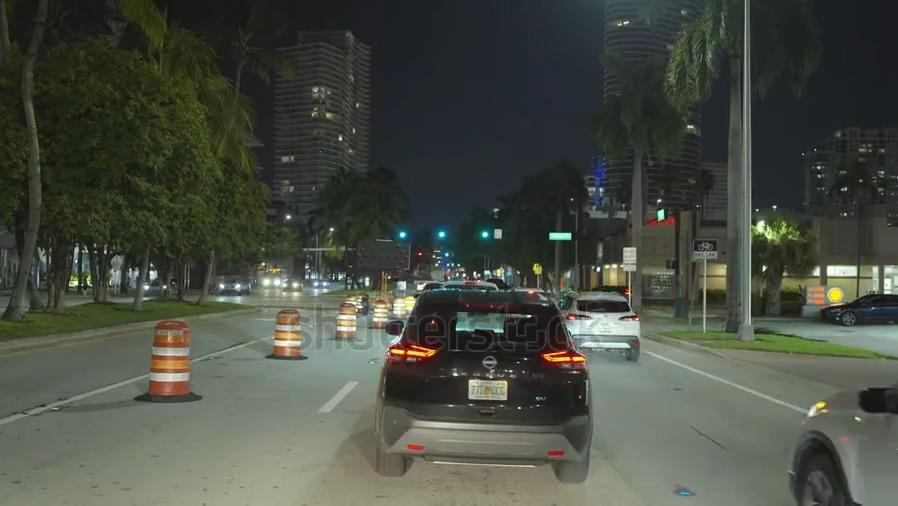bus: (263, 265, 288, 291)
car: (393, 290, 591, 472), (789, 381, 898, 506), (559, 286, 641, 358), (822, 290, 898, 327), (139, 272, 182, 296), (214, 272, 249, 299), (589, 279, 632, 295), (282, 276, 303, 293), (313, 275, 329, 290)
cone: (143, 315, 191, 399), (270, 306, 303, 359), (333, 301, 356, 339), (369, 298, 385, 328), (390, 295, 403, 323), (404, 292, 412, 313)
traffic light: (476, 222, 496, 252), (431, 224, 454, 247), (391, 225, 412, 244)
wheel: (793, 447, 844, 506)
